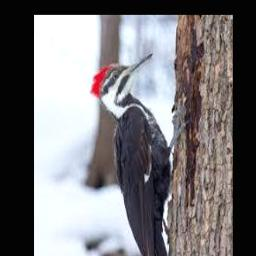Woodpecker: (90, 52, 189, 256)
